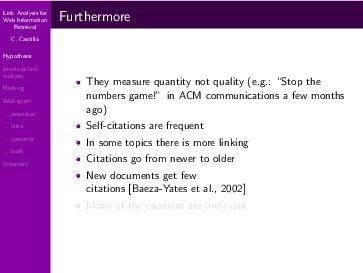paragraph: (83, 68, 353, 217)
title: (57, 6, 143, 33)
